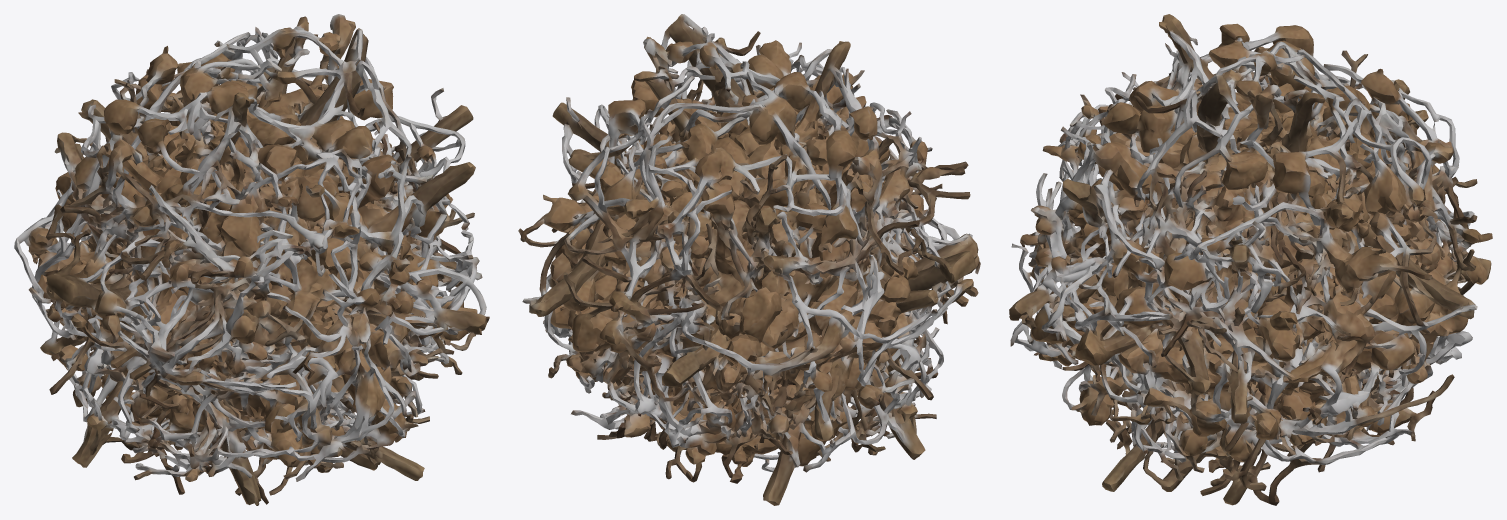
Rendered from task-4891345.glb.
3 renders of one model, left to right at view 1: azimuth 30°, elevation 25°; view 2: azimuth 150°, elevation 25°; view 3: azimuth 270°, elevation 25°, orthographic. The views are drawn at different scales.
Visible parts, largest first — view 1: world; view 2: world; view 3: world.
Part boxes in pixels (box(x1,y1,x2,y2)): world: box(14, 14, 489, 505); world: box(518, 14, 980, 505); world: box(1009, 14, 1492, 505).
Size of the model in its own units: 0.15 by 0.15 by 0.1481.
1 material, 1 textured.
